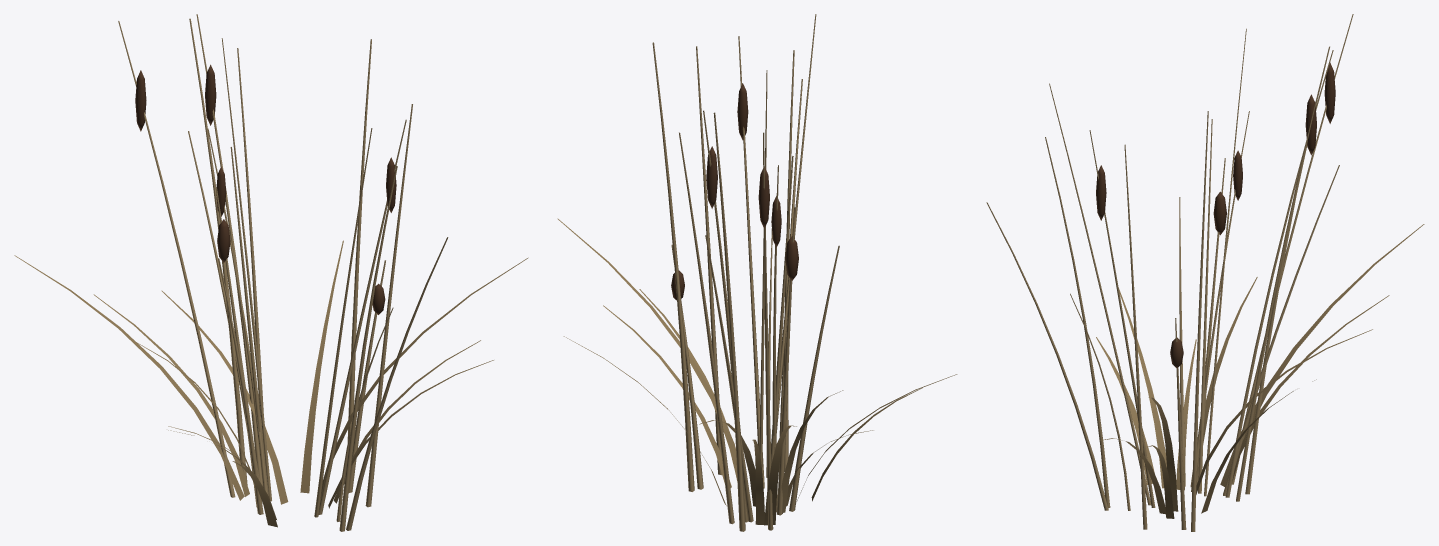
Rendered from reed_clump_0.glb.
The picture shows the model from 3 angles, left to right: view 1: azimuth 30°, elevation 25°; view 2: azimuth 150°, elevation 25°; view 3: azimuth 270°, elevation 25°; orthographic projection. The views are drawn at different scales.
Visible parts, largest first — view 1: ReedClump_Stalks_2, ReedClump_Stalks_0, ReedClump_Stalks_1, ReedClump_Blades_0, ReedClump_Blades_1, ReedClump_Blades_2, ReedClump_Heads_2, ReedClump_Heads_0, ReedClump_Heads_1; view 2: ReedClump_Stalks_2, ReedClump_Stalks_1, ReedClump_Stalks_0, ReedClump_Blades_0, ReedClump_Blades_1, ReedClump_Blades_2, ReedClump_Heads_2, ReedClump_Heads_1, ReedClump_Heads_0; view 3: ReedClump_Stalks_0, ReedClump_Stalks_2, ReedClump_Stalks_1, ReedClump_Blades_0, ReedClump_Blades_2, ReedClump_Blades_1, ReedClump_Heads_2, ReedClump_Heads_0, ReedClump_Heads_1.
Boxes of the visible parts, <box> form: ReedClump_Stalks_2: <box>118,21,406,531</box>; ReedClump_Stalks_0: <box>188,14,448,530</box>; ReedClump_Stalks_1: <box>207,48,412,514</box>; ReedClump_Blades_0: <box>93,257,528,519</box>; ReedClump_Blades_1: <box>136,240,493,508</box>; ReedClump_Blades_2: <box>14,255,277,527</box>; ReedClump_Heads_2: <box>135,70,396,212</box>; ReedClump_Heads_0: <box>205,64,385,314</box>; ReedClump_Heads_1: <box>216,167,230,262</box>; ReedClump_Stalks_2: <box>652,14,816,530</box>; ReedClump_Stalks_1: <box>679,46,839,524</box>; ReedClump_Stalks_0: <box>671,70,802,531</box>; ReedClump_Blades_0: <box>557,218,957,524</box>; ReedClump_Blades_1: <box>563,289,843,512</box>; ReedClump_Blades_2: <box>764,388,922,525</box>; ReedClump_Heads_2: <box>737,83,769,228</box>; ReedClump_Heads_1: <box>771,196,798,280</box>; ReedClump_Heads_0: <box>671,146,717,300</box>; ReedClump_Stalks_0: <box>986,28,1339,529</box>; ReedClump_Stalks_2: <box>1045,14,1353,531</box>; ReedClump_Stalks_1: <box>1124,101,1316,529</box>; ReedClump_Blades_0: <box>1118,288,1389,511</box>; ReedClump_Blades_2: <box>1096,224,1424,490</box>; ReedClump_Blades_1: <box>1099,277,1316,518</box>; ReedClump_Heads_2: <box>1096,62,1335,220</box>; ReedClump_Heads_0: <box>1170,94,1316,368</box>; ReedClump_Heads_1: <box>1213,150,1242,235</box>.
Size of what is drawn, in the model's own units: 1.64 by 1.9 by 1.66.
